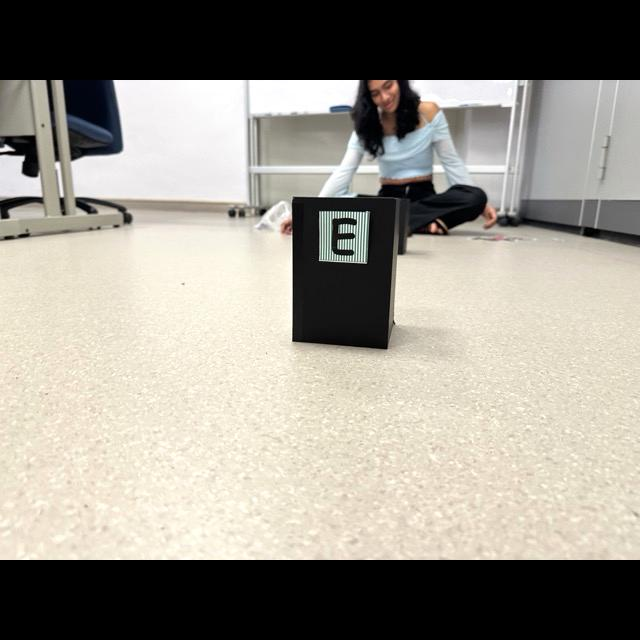E: (332, 218, 357, 255)
